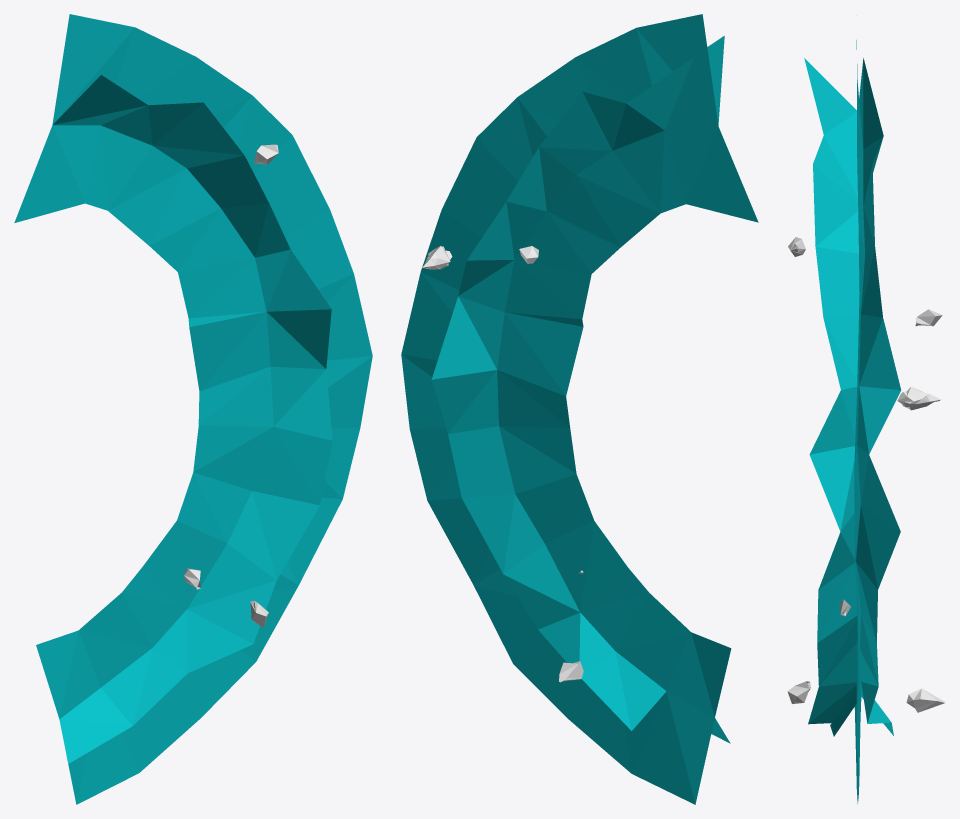
The model's file is Planet.RingCrystals.000.fbx.
The picture shows the model from 3 angles, left to right: view 1: azimuth 30°, elevation 25°; view 2: azimuth 150°, elevation 25°; view 3: azimuth 270°, elevation 25°; orthographic projection. The views are drawn at different scales.
Parts seen in each view (by area): view 1: Planet.DustRing.002; view 2: Planet.DustRing.002; view 3: Planet.DustRing.002, Planet.Diamonds.Bits.004, Planet.Diamonds.Bits.011, Planet.Diamonds.Bits.010, Planet.Diamonds.Bits.002.
Boxes of the visible parts, x1,y1,x2,y2 form: Planet.DustRing.002: (14, 14, 372, 804); Planet.DustRing.002: (401, 14, 758, 804); Planet.DustRing.002: (804, 40, 901, 803); Planet.Diamonds.Bits.004: (897, 386, 940, 410); Planet.Diamonds.Bits.011: (906, 688, 945, 712); Planet.Diamonds.Bits.010: (787, 681, 810, 703); Planet.Diamonds.Bits.002: (915, 309, 942, 326).
Bounding box in the file's own units: 8.34 × 17.65 × 3.27.
